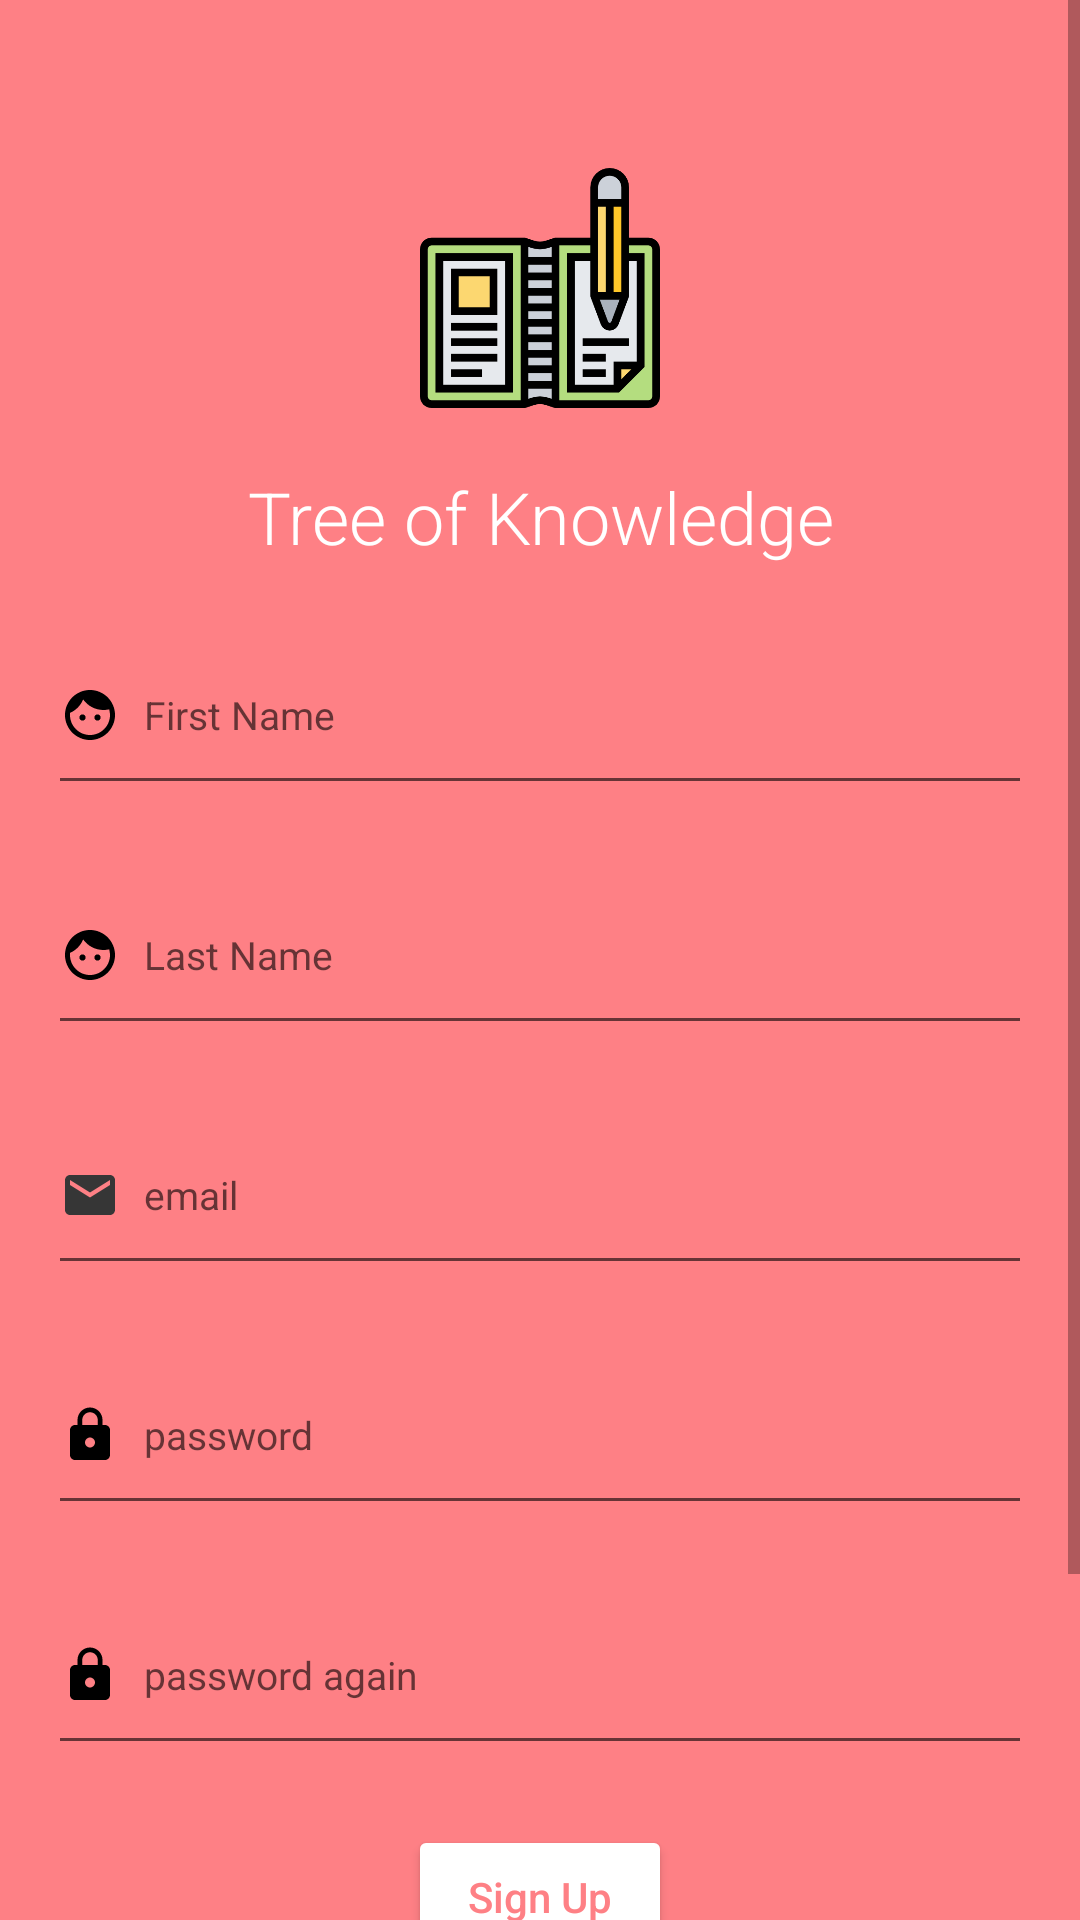

Screen size 1080w x 1920h. Icon name, then its center in pixels as (x=x, y=y):
notebook: (x=540, y=288)
